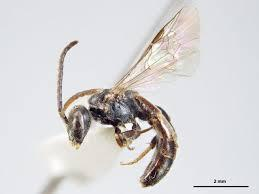Lasioglossum: (50, 5, 204, 187)
